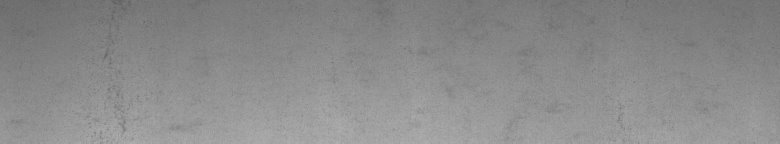ib: (104, 52, 180, 136)
